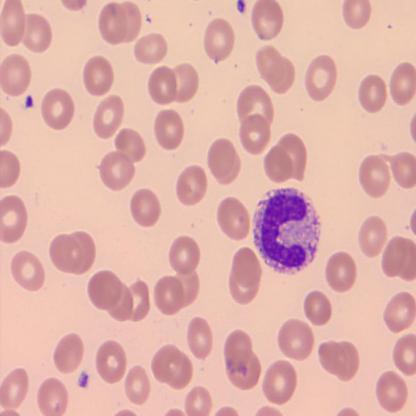Band Neutrophil: (249, 184, 323, 277)
